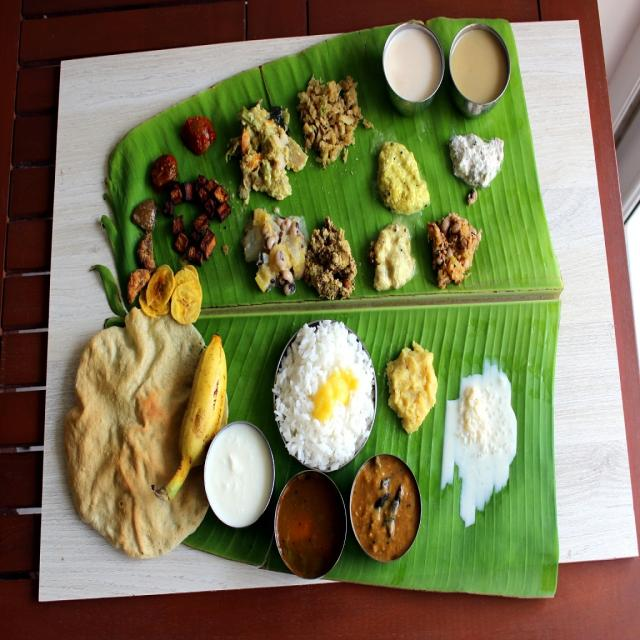veg meals: (56, 9, 570, 602)
